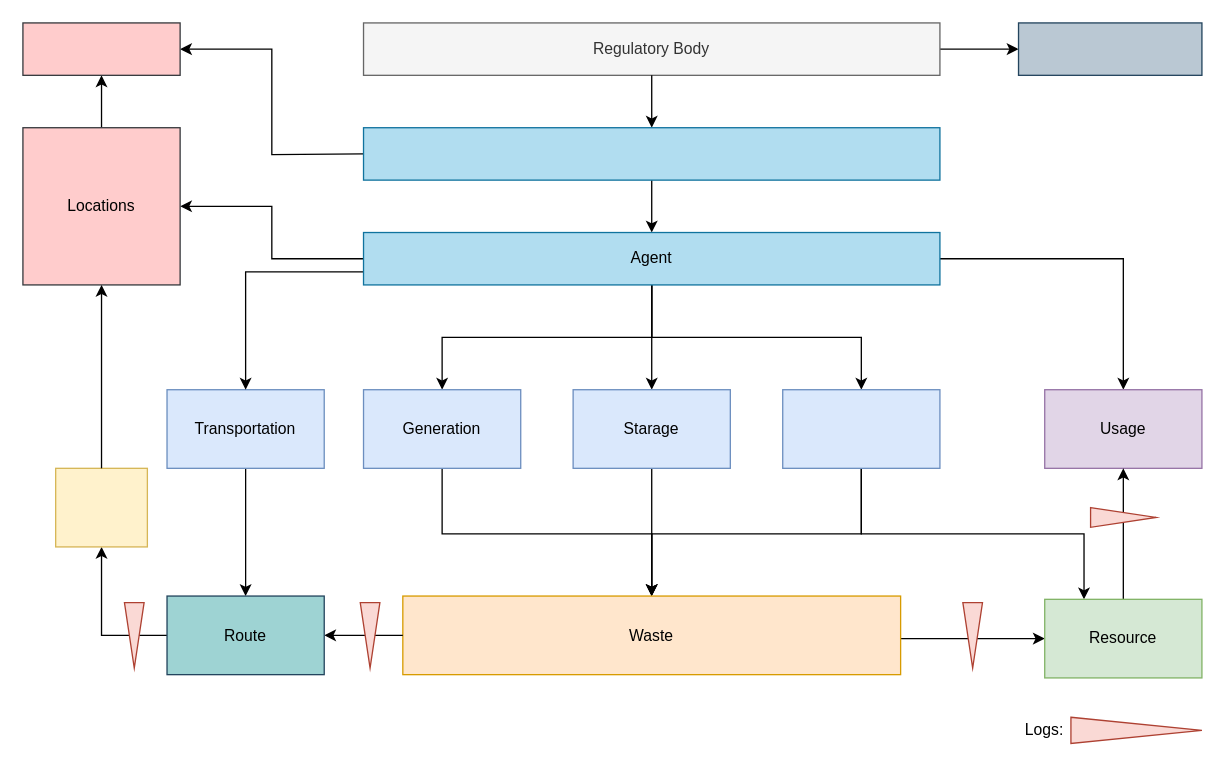
The diagram is 1225 pixels wide and 766 high, and some of its shapes have lost their labels. The shapes that lost their labels are listed below. From the top down, each one's centre as x and y in pixels, then its label:
At (101,48): "Zones".
At (1109,48): "KPIs".
At (651,153): "Scenario".
At (860,428): "Transformation".
At (100,507): "Container".
